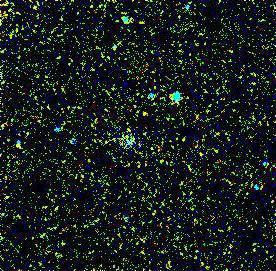star: (134, 102, 164, 132)
